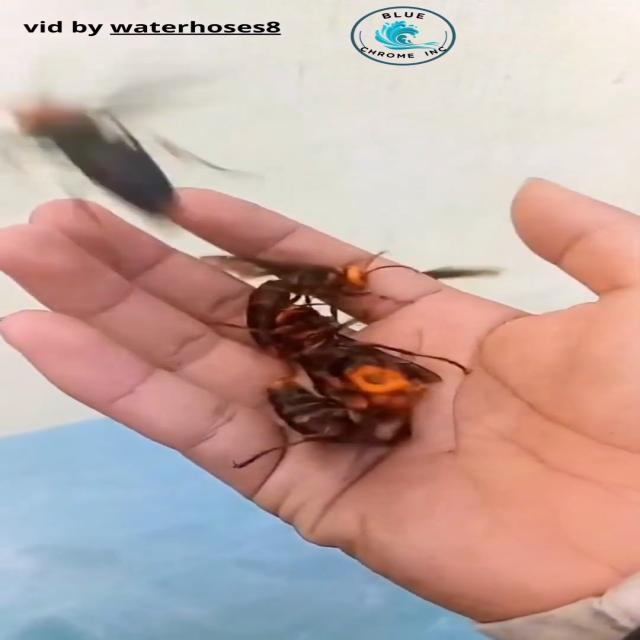Hornets: (0, 75, 258, 225), (192, 249, 420, 357), (232, 363, 420, 469)
